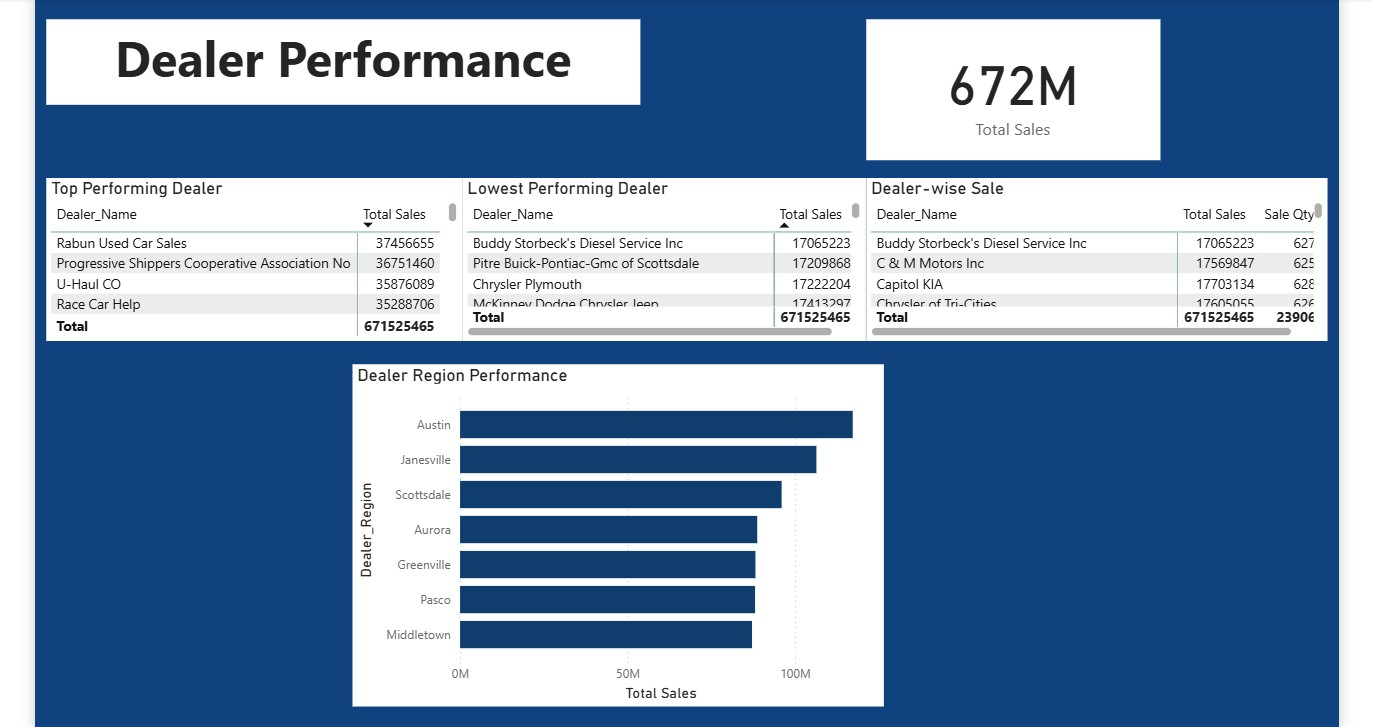

Layout of this report page (visuals, bound fields, positions):
{"tool":"powerbi","page":{"name":"Dealer Performance","canvas":[1280,720],"ordinal":3},"visuals":[{"type":"textbox","box":[11.4,21.4,582.9,84.3],"z":0},{"type":"pivotTable","title":"Top Performing Dealer ","fields":{"Rows":["car sales.Dealer_Name"],"Values":["car sales.Total Sales"]},"box":[11.4,177.1,408.6,160],"z":1000},{"type":"pivotTable","title":"Lowest Performing Dealer ","fields":{"Rows":["car sales.Dealer_Name"],"Values":["car sales.Total Sales"]},"box":[420,177.1,395.7,160],"z":2000},{"type":"card","fields":{"Values":["car sales.Total Sales"]},"box":[815.7,21.4,288.6,138.6],"z":3000},{"type":"pivotTable","title":"Dealer-wise Sale","fields":{"Rows":["car sales.Dealer_Name"],"Values":["car sales.Total Sales","car sales.Sale Qty"]},"box":[815.7,177.1,452.9,160],"z":4000},{"type":"clusteredBarChart","title":"Dealer Region Performance","fields":{"Category":["car sales.Dealer_Region"],"Y":["car sales.Total Sales"]},"box":[311.7,359.5,521.5,336.2],"z":5000}]}

Visuals, with their boxes in screenshot pixels (x1, y1, x2, y2):
textbox: bbox=(37, 15, 638, 102)
"Top Performing Dealer " pivotTable: bbox=(37, 175, 458, 340)
"Lowest Performing Dealer " pivotTable: bbox=(458, 175, 866, 340)
card - car sales.Total Sales: bbox=(866, 15, 1163, 158)
"Dealer-wise Sale" pivotTable: bbox=(866, 175, 1333, 340)
"Dealer Region Performance" clusteredBarChart: bbox=(346, 363, 884, 710)
